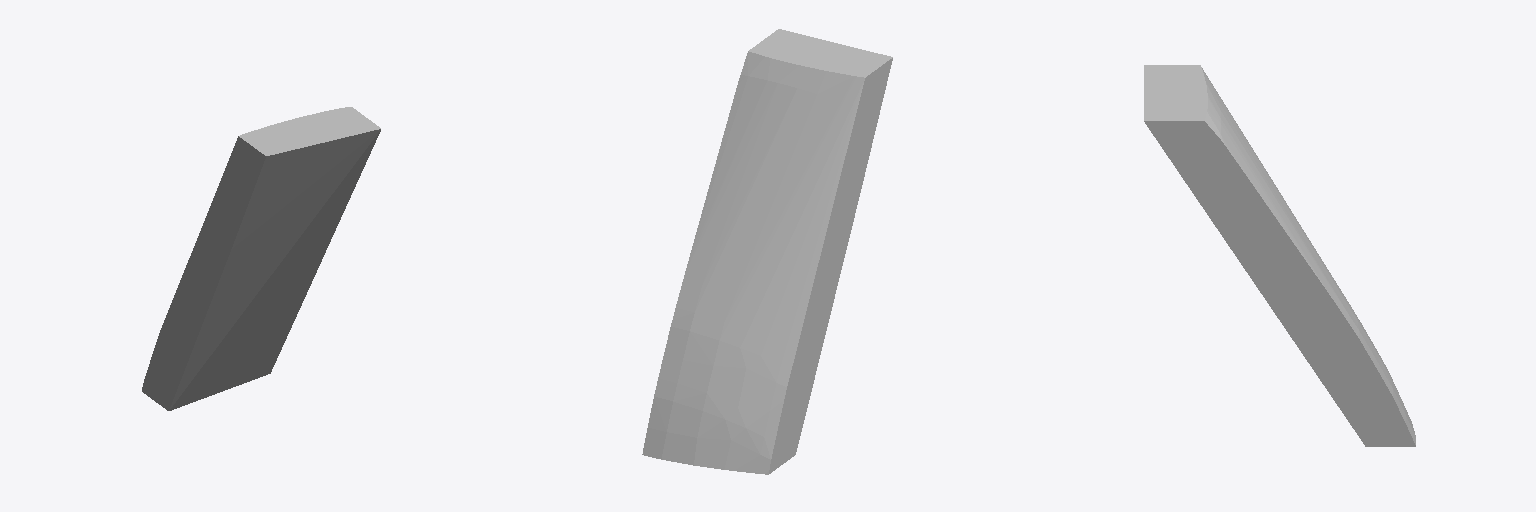
File: phantom-elastrat_collision_287.obj
3 renders of one model, left to right at view 1: azimuth 30°, elevation 25°; view 2: azimuth 150°, elevation 25°; view 3: azimuth 270°, elevation 25°, orthographic.
Size of the model in its own units: 0.0046 by 0.0125 by 0.0095.